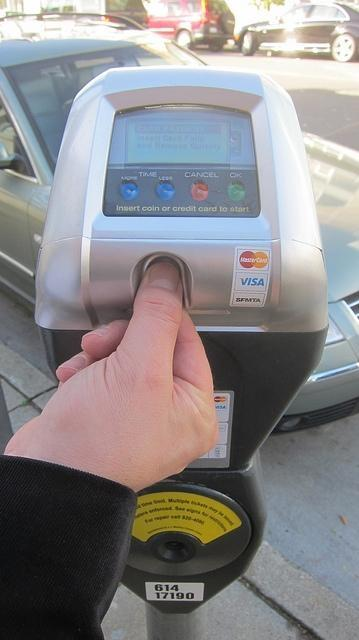car: (0, 12, 359, 436), (238, 2, 359, 64), (138, 1, 235, 52)
